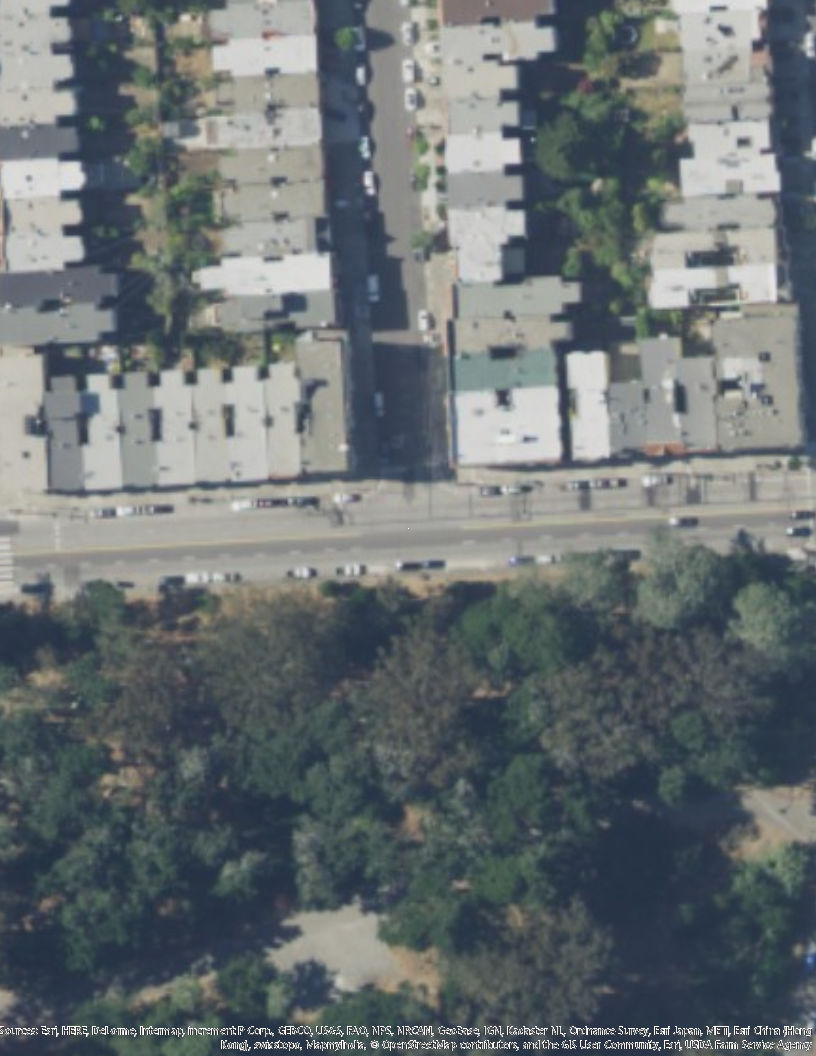zebracross: (1, 520, 11, 582)
